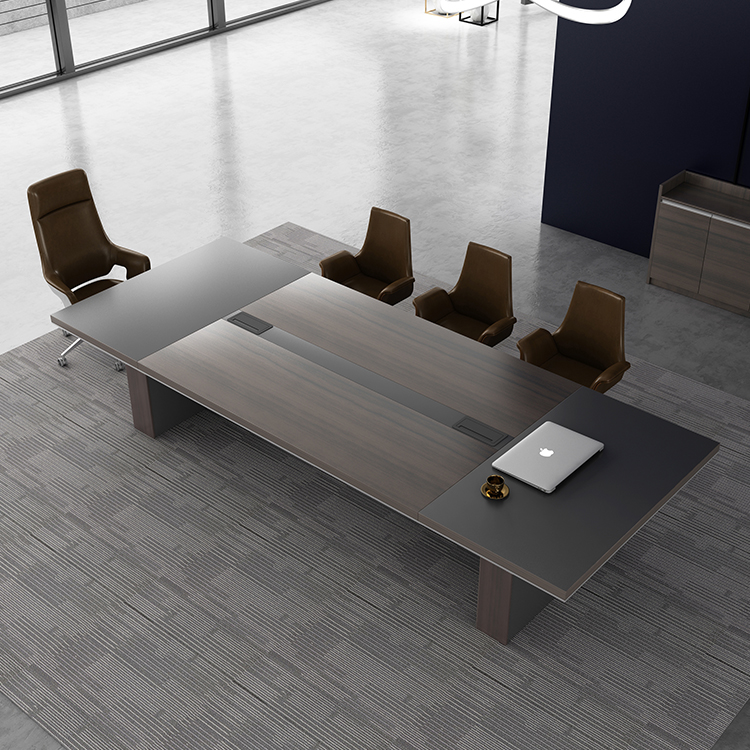conference_table: (49, 236, 720, 644)
